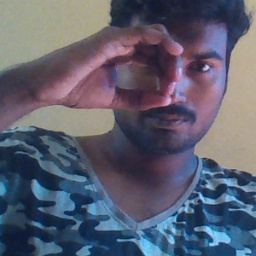O: (39, 19, 191, 121)
